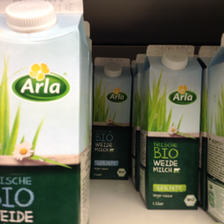milk: (1, 1, 89, 224), (137, 40, 201, 211), (94, 58, 133, 181)
